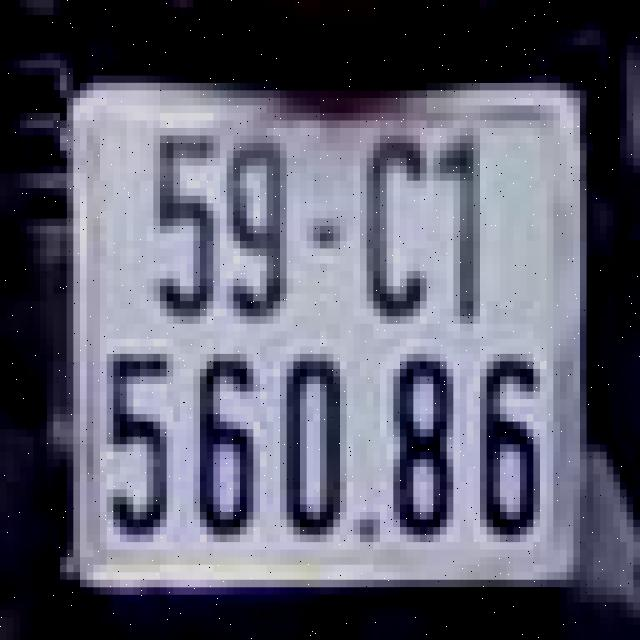0: (270, 342, 357, 546)
1: (437, 116, 490, 328)
5: (150, 124, 223, 320), (100, 342, 173, 538)
6: (464, 342, 564, 546), (190, 346, 257, 542)
8: (384, 346, 464, 565)
9: (214, 120, 294, 332)
C: (346, 128, 426, 339)
